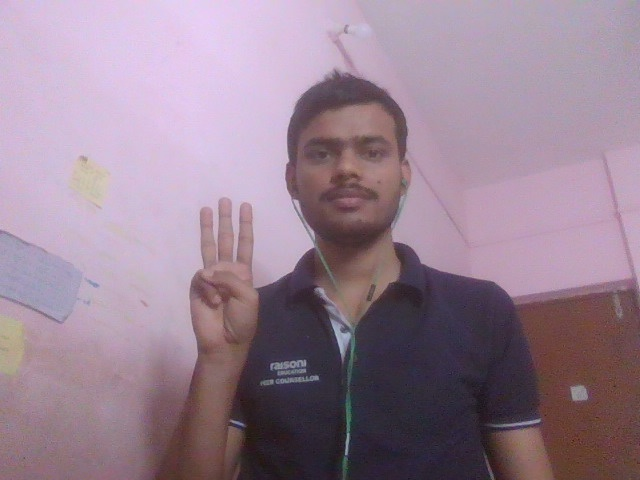Water: (150, 159, 339, 426)
